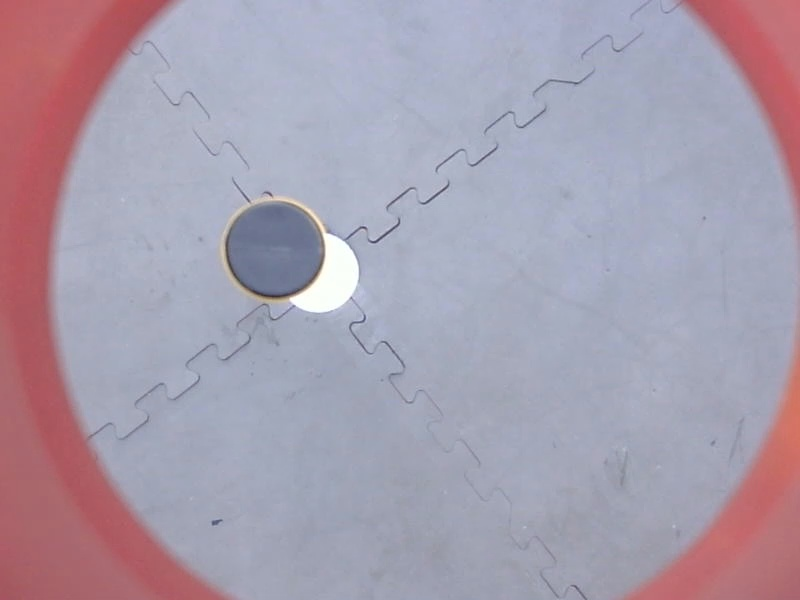tip: (217, 192, 332, 304)
